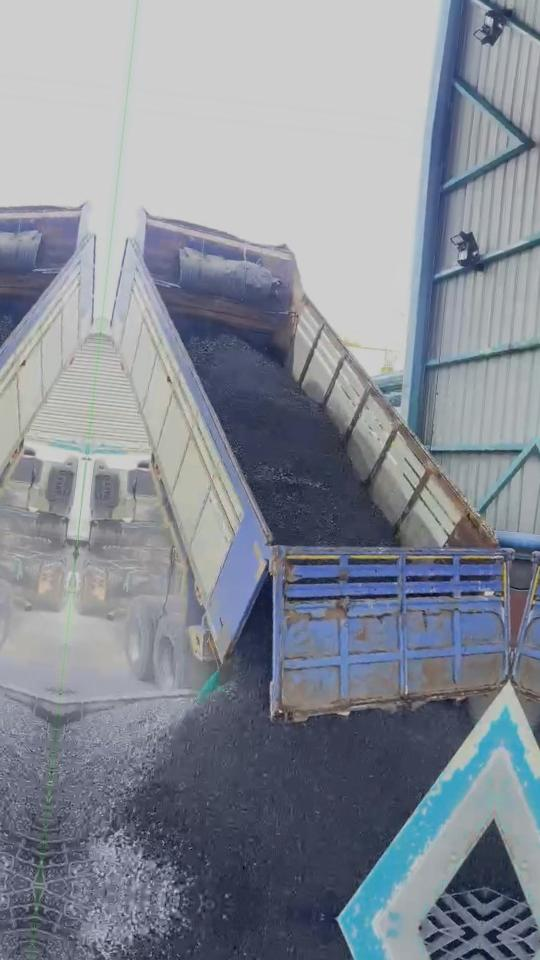gravel: (53, 588, 469, 918), (183, 325, 393, 547), (455, 833, 491, 888)
